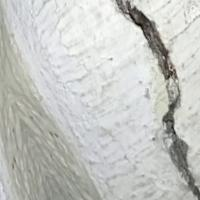crack: (109, 0, 199, 195)
